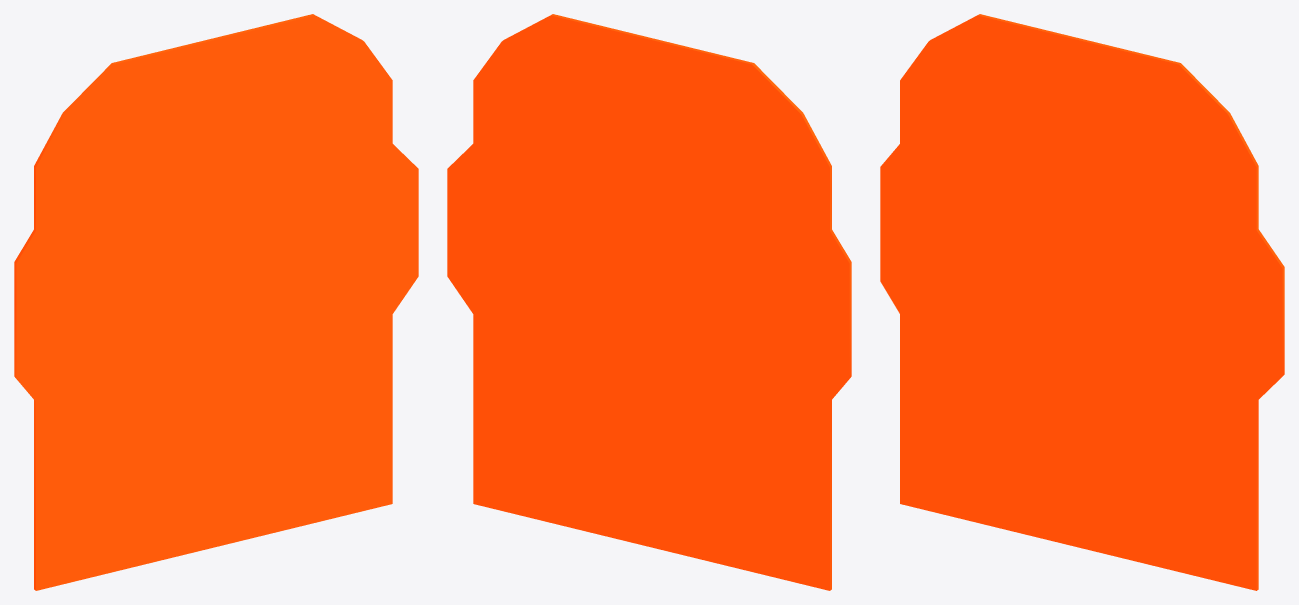
Rendered from Portal_slomljen.FBX.
The picture shows the model from 3 angles, left to right: view 1: azimuth 30°, elevation 25°; view 2: azimuth 150°, elevation 25°; view 3: azimuth 330°, elevation 25°; orthographic projection.
Parts seen in each view (by area): view 1: prozor_Part_15, prozor_Part_9, prozor_Part_8, prozor_Part_4, prozor_Part_6, prozor_Part_12, prozor_Part_7, prozor_Part_10, prozor_Part_13, prozor_Part_2, prozor_Part_14, prozor_Part_1 (+3 smaller); view 2: prozor_Part_15, prozor_Part_9, prozor_Part_8, prozor_Part_4, prozor_Part_6, prozor_Part_12, prozor_Part_7, prozor_Part_10, prozor_Part_13, prozor_Part_2, prozor_Part_14, prozor_Part_1 (+3 smaller); view 3: prozor_Part_15, prozor_Part_9, prozor_Part_8, prozor_Part_4, prozor_Part_6, prozor_Part_12, prozor_Part_7, prozor_Part_10, prozor_Part_13, prozor_Part_2, prozor_Part_14, prozor_Part_1 (+3 smaller).
Part boxes in pixels (left/top/right/bottom): prozor_Part_15: left=275, top=37, right=418, bottom=279; prozor_Part_9: left=276, top=220, right=418, bottom=453; prozor_Part_8: left=163, top=407, right=392, bottom=559; prozor_Part_4: left=14, top=189, right=142, bottom=387; prozor_Part_6: left=152, top=26, right=358, bottom=186; prozor_Part_12: left=34, top=458, right=192, bottom=590; prozor_Part_7: left=126, top=265, right=292, bottom=357; prozor_Part_10: left=112, top=344, right=287, bottom=439; prozor_Part_13: left=34, top=51, right=163, bottom=190; prozor_Part_2: left=22, top=360, right=123, bottom=532; prozor_Part_14: left=89, top=148, right=219, bottom=286; prozor_Part_1: left=155, top=14, right=336, bottom=140; prozor_Part_15: left=447, top=37, right=590, bottom=279; prozor_Part_9: left=447, top=220, right=589, bottom=453; prozor_Part_8: left=473, top=407, right=702, bottom=559; prozor_Part_4: left=723, top=189, right=851, bottom=387; prozor_Part_6: left=507, top=26, right=713, bottom=186; prozor_Part_12: left=673, top=458, right=831, bottom=590; prozor_Part_7: left=573, top=265, right=739, bottom=357; prozor_Part_10: left=578, top=344, right=754, bottom=439; prozor_Part_13: left=702, top=51, right=831, bottom=190; prozor_Part_2: left=742, top=360, right=843, bottom=532; prozor_Part_14: left=646, top=148, right=776, bottom=286; prozor_Part_1: left=529, top=14, right=710, bottom=140; prozor_Part_15: left=1139, top=107, right=1284, bottom=319; prozor_Part_9: left=1140, top=318, right=1284, bottom=541; prozor_Part_8: left=1027, top=443, right=1258, bottom=590; prozor_Part_4: left=880, top=104, right=1006, bottom=309; prozor_Part_6: left=1016, top=85, right=1224, bottom=211; prozor_Part_12: left=900, top=411, right=1056, bottom=534; prozor_Part_7: left=990, top=250, right=1156, bottom=387; prozor_Part_10: left=976, top=301, right=1151, bottom=454; prozor_Part_13: left=900, top=14, right=1029, bottom=128; prozor_Part_2: left=888, top=294, right=987, bottom=446; prozor_Part_14: left=953, top=118, right=1083, bottom=251; prozor_Part_1: left=1019, top=26, right=1202, bottom=112.
Size of the model in its own units: 159 by 191 by 1.38.
